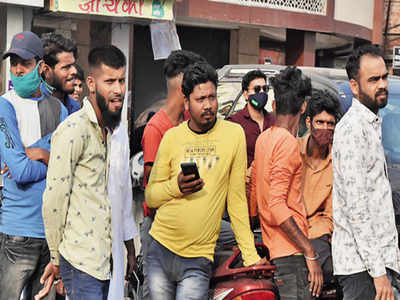with_incorrect_mask: (9, 40, 42, 93)
with_mask: (310, 109, 337, 148), (244, 77, 269, 111)
without_mask: (355, 55, 392, 114), (94, 58, 128, 119), (187, 81, 219, 126), (51, 47, 76, 91)
